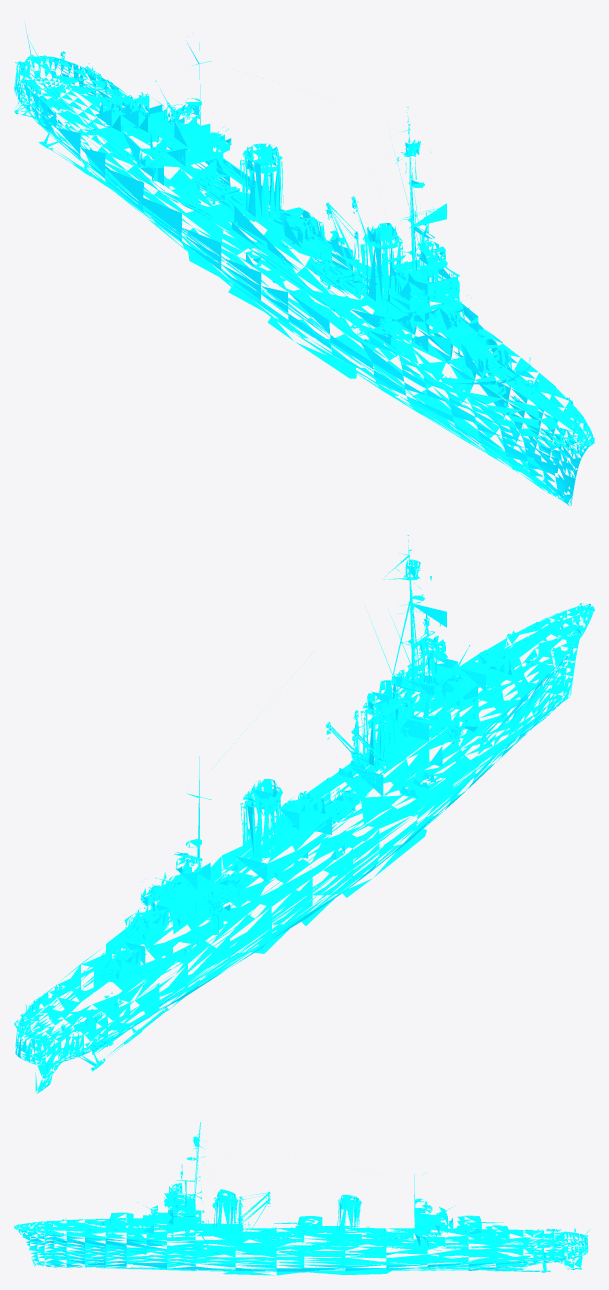
Rendered from PGSD529.glb.
The picture shows the model from 3 angles, top to bottom: view 1: azimuth 30°, elevation 25°; view 2: azimuth 150°, elevation 25°; view 3: azimuth 270°, elevation 25°; orthographic projection. The views are drawn at different scales.
Visible parts, largest first — view 1: hull, turret; view 2: hull, turret; view 3: hull, turret.
Boxes of the visible parts, bbox=[...] form: hull: bbox=[14, 22, 594, 505]; turret: bbox=[84, 80, 524, 381]; hull: bbox=[14, 535, 594, 1093]; turret: bbox=[84, 643, 523, 986]; hull: bbox=[14, 1122, 590, 1275]; turret: bbox=[86, 1202, 530, 1241].
Bounding box in the file's own units: 0.8395 × 2.36 × 8.39.
